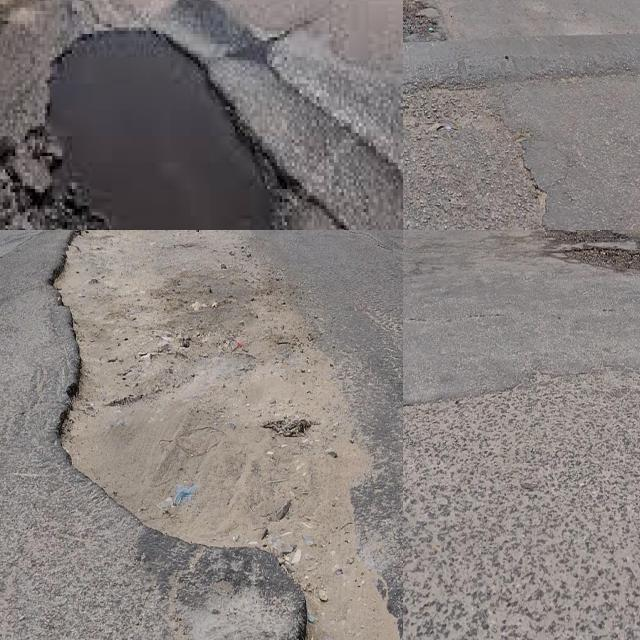Pothole: (45, 27, 292, 230), (56, 368, 145, 506), (291, 574, 403, 640), (541, 230, 640, 274), (46, 253, 88, 316), (403, 1, 438, 41), (80, 230, 114, 242)
